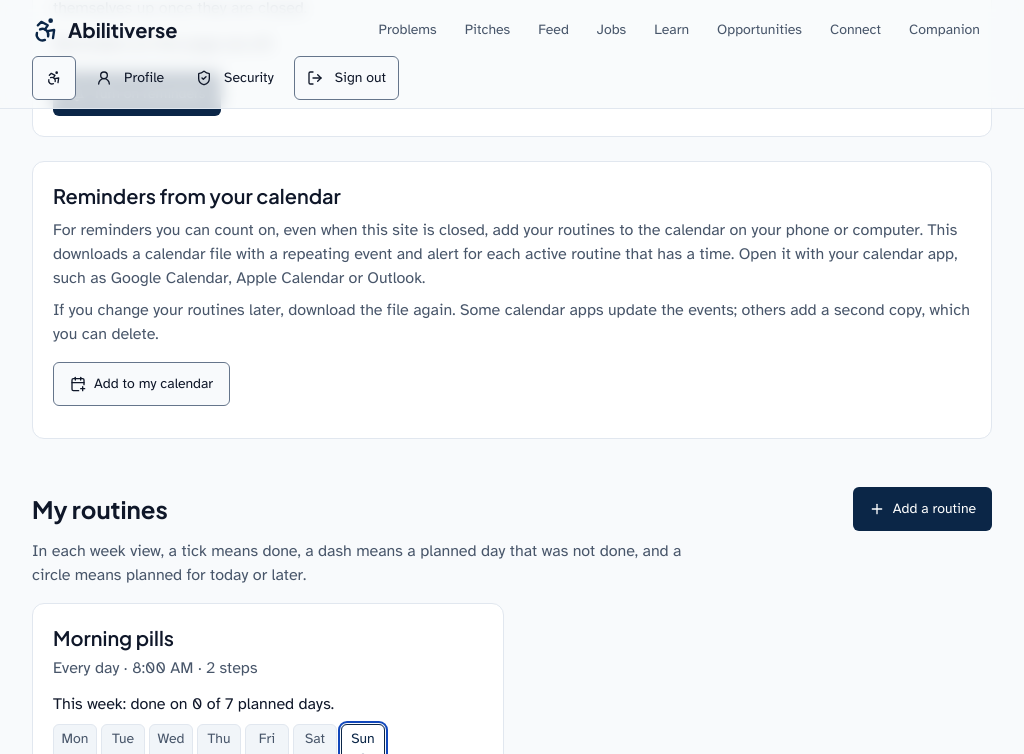
it: Companion page › downloads the routines as abilitiverse-routines.ics
(page scrolled)
Click the button "Add to my calendar" at (142, 384), box [53,362,230,406]
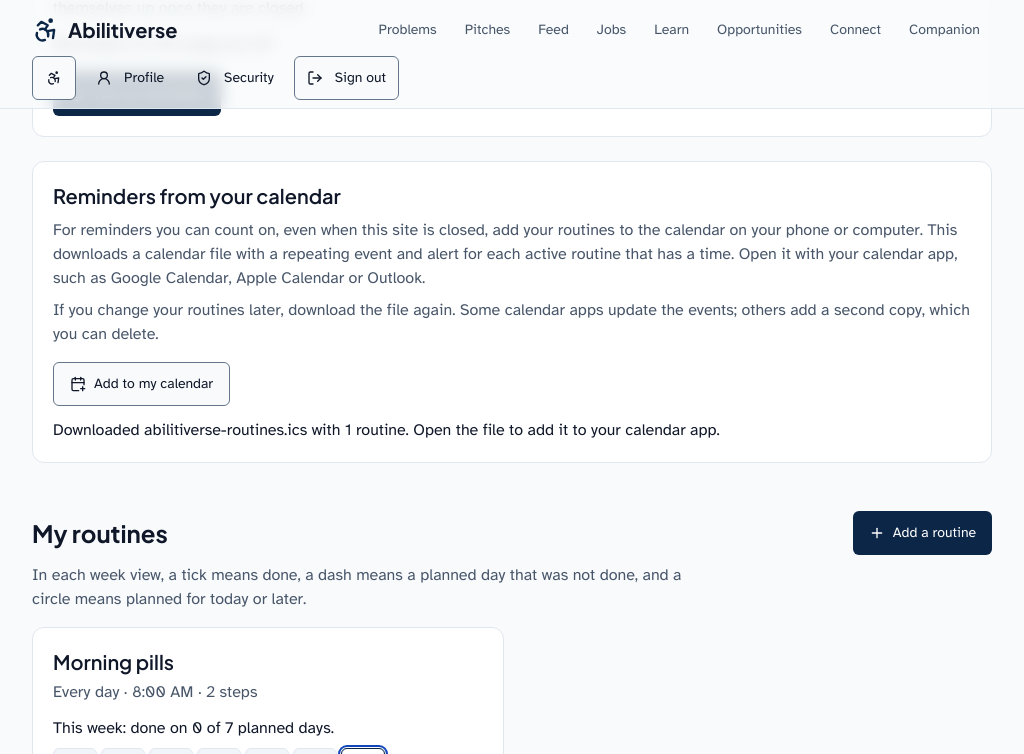
Expected: the text "Downloaded abilitiverse-routines.ics with 1 routine" is shown, [53,420,720,440]
